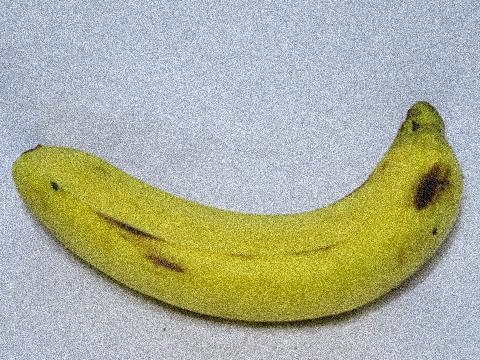freshripe: (2, 93, 474, 339)
